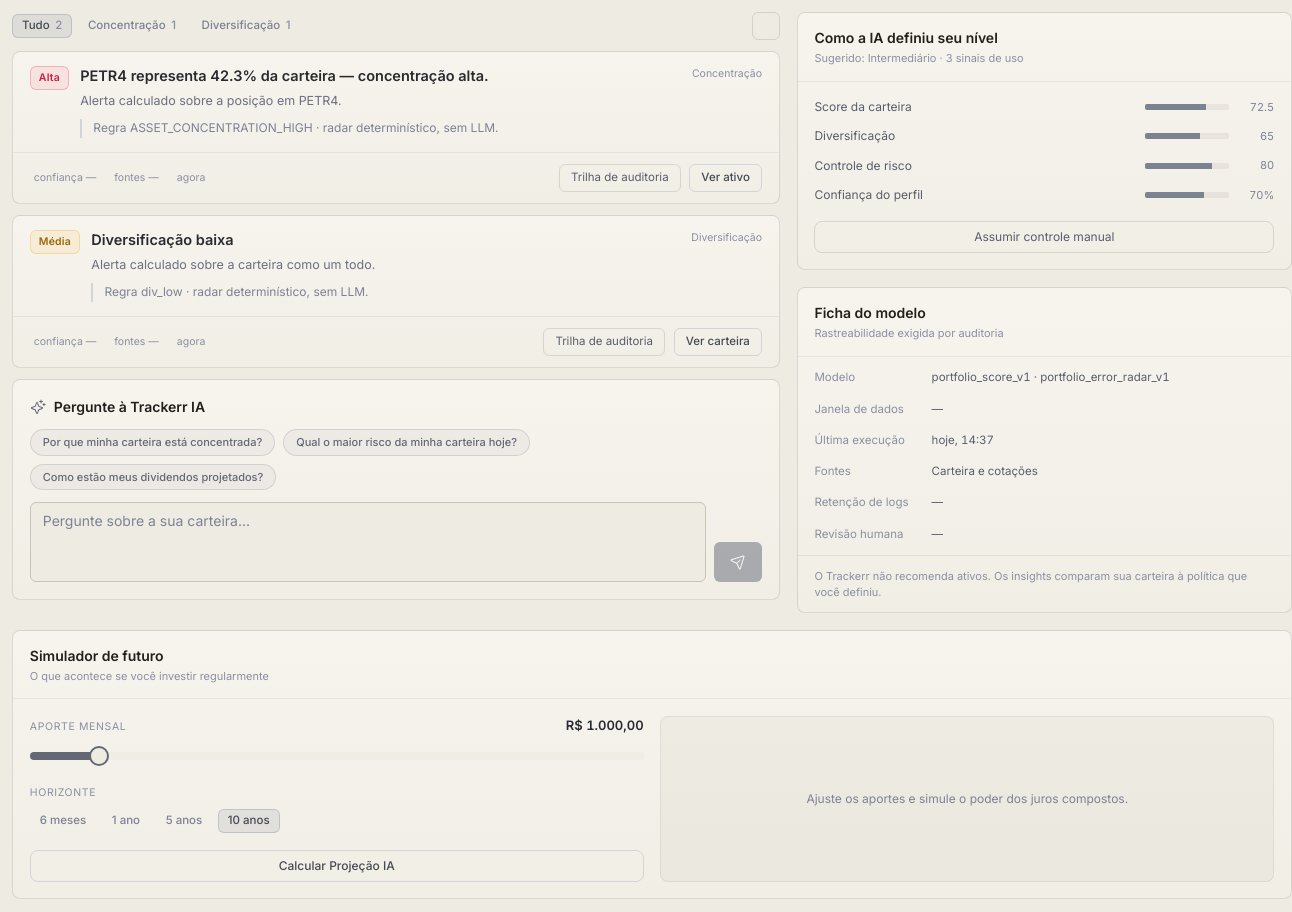
Test case: AIInsights — feed de insights › monta as abas com "Tudo" e as categorias presentes, com contagem
Check: the text "Diversificação baixa" is shown, box [91,231,234,248]
Click the button named "Concentração 1": (132, 26) [78,14,186,38]
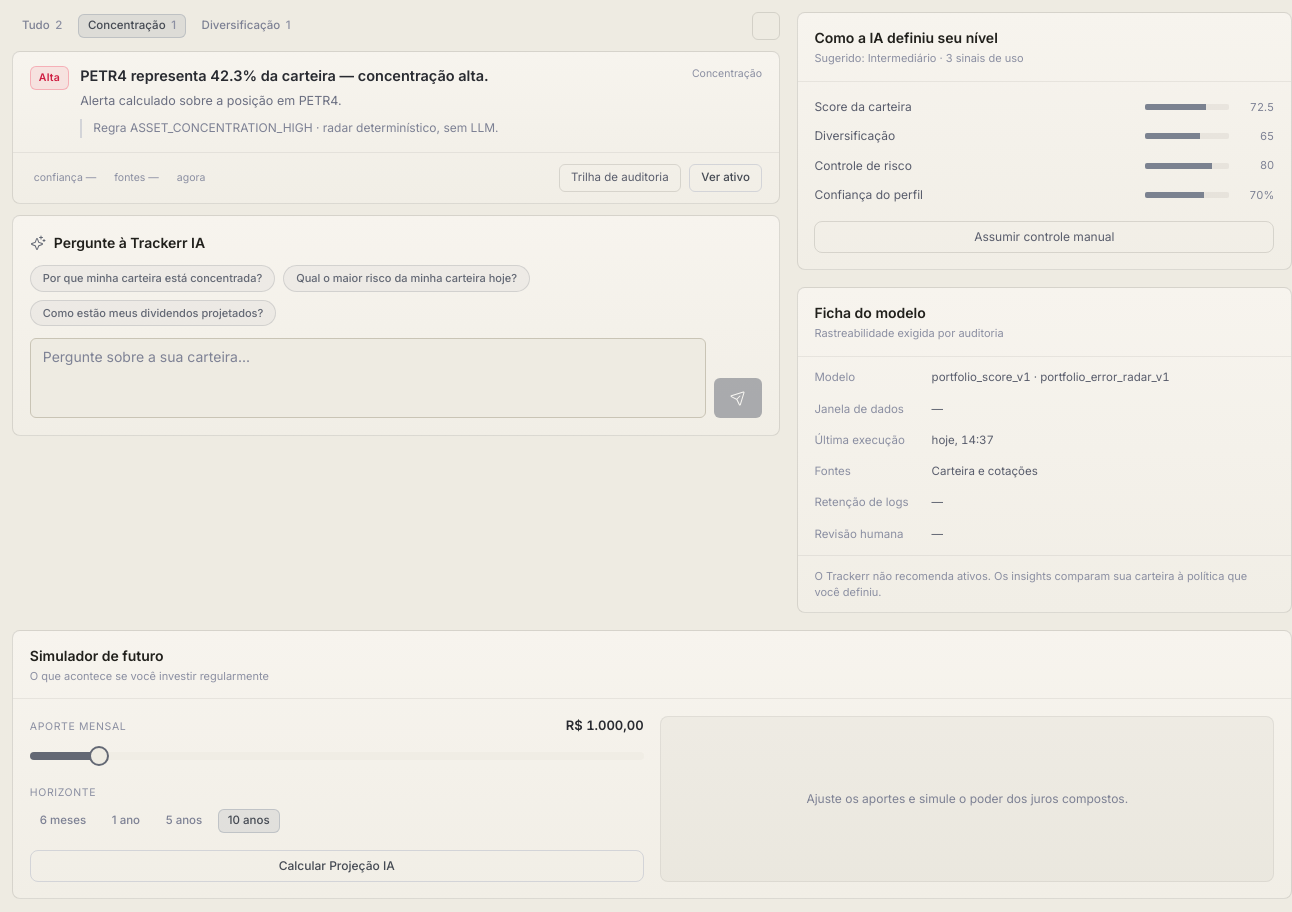
Check: the text "PETR4 representa 42.3% da carteira — concentração alta." is shown, box [80,67,489,84]
Check: the text "Diversificação baixa" is gone
